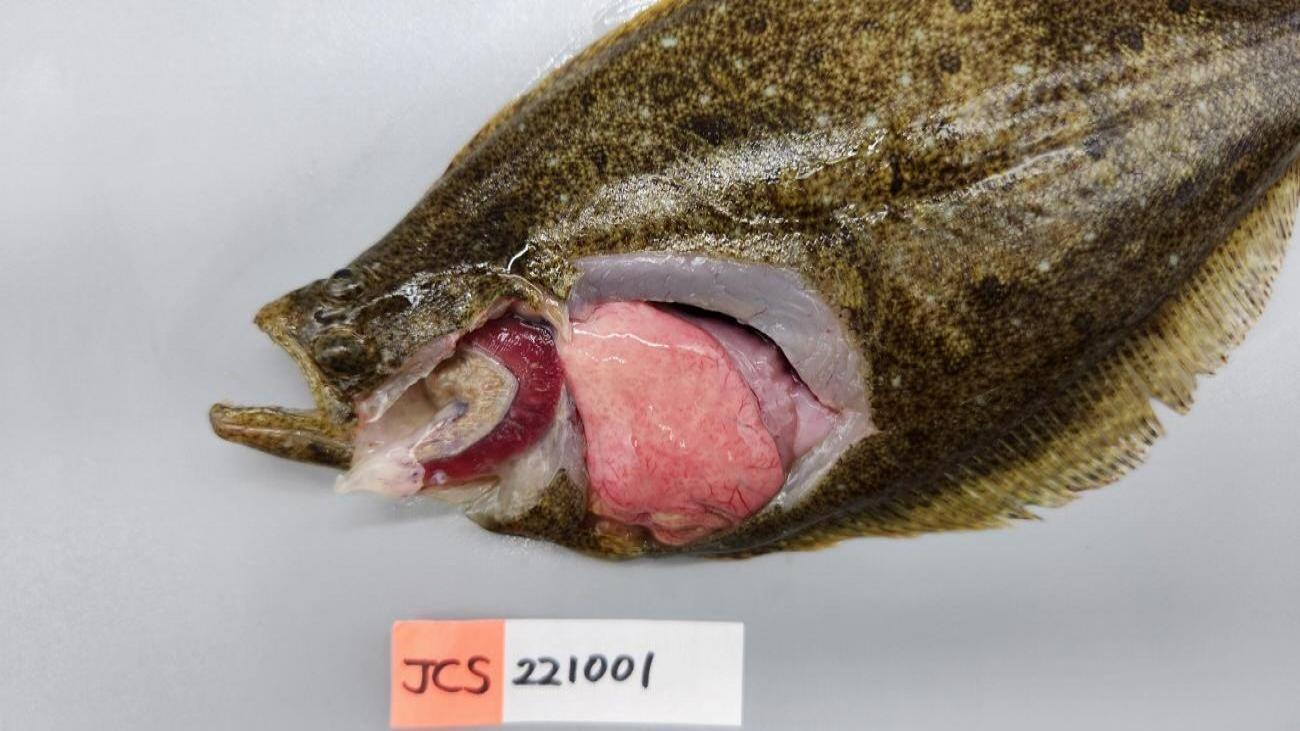POGIN: (420, 316, 564, 486)
POLIN: (557, 300, 784, 520)
